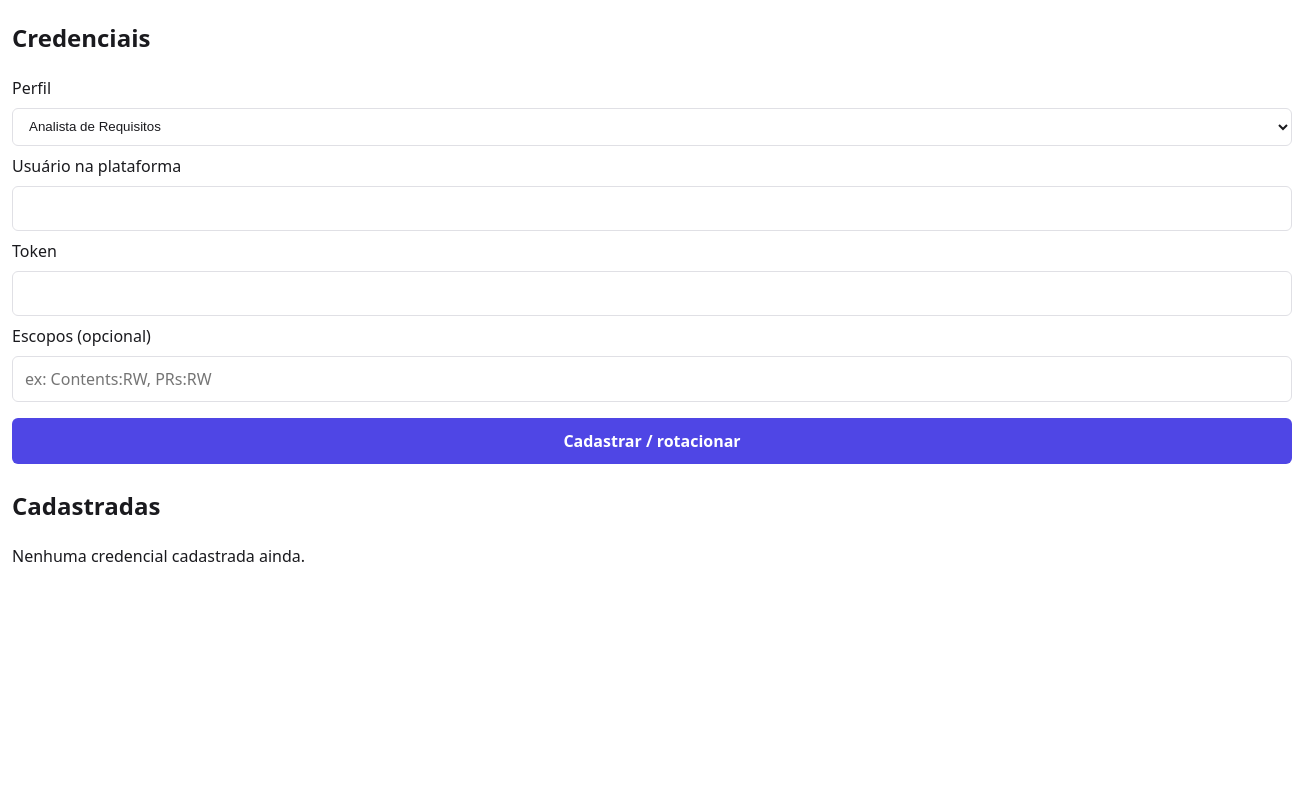
CredentialsPage › registers a credential, clears the write-only token field, and reloads the list
Check: the text "Nenhuma credencial cadastrada ainda." is shown, box [12,545,305,567]
Select "Dev" in the dropdown labelled "Perfil": (652, 127) [12,108,1292,146]
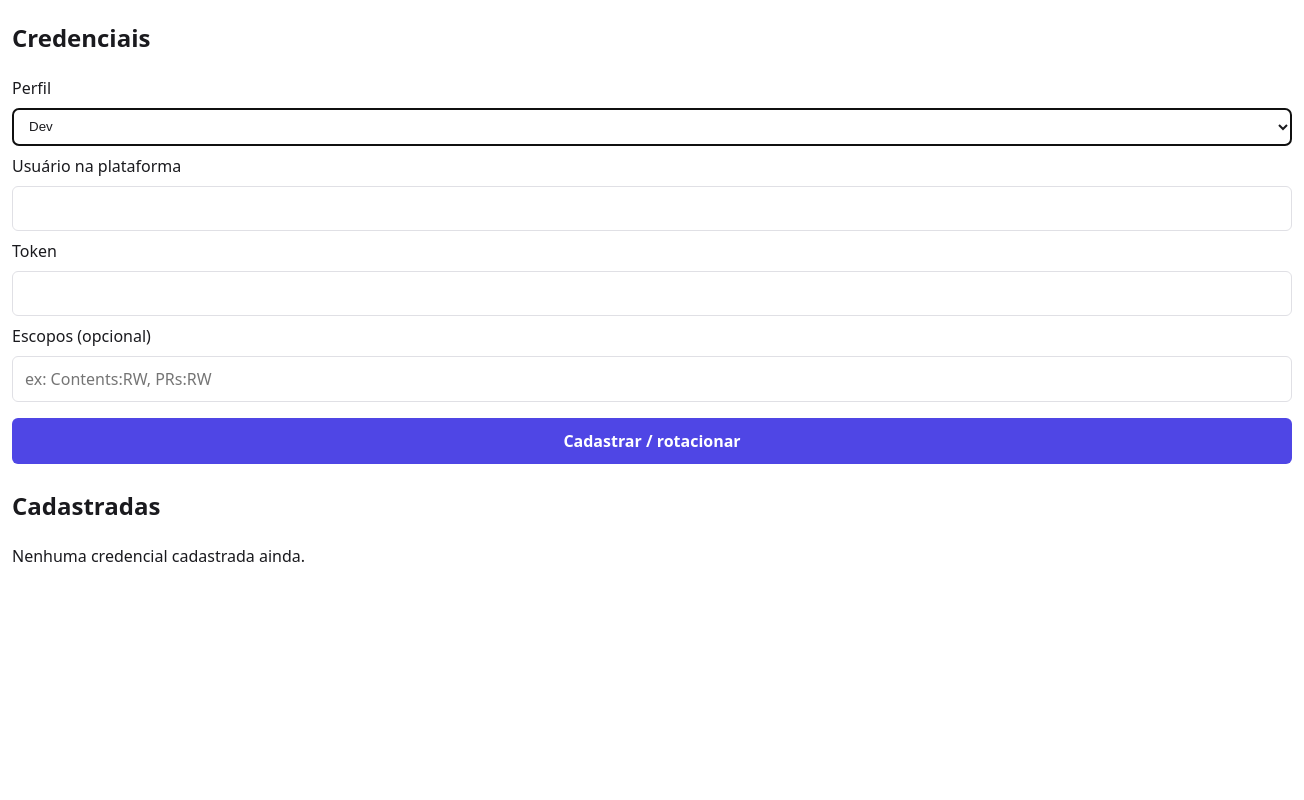
In the field labelled "Usuário na plataforma": (652, 209) [12,186,1292,231], type "recolocarme-web"
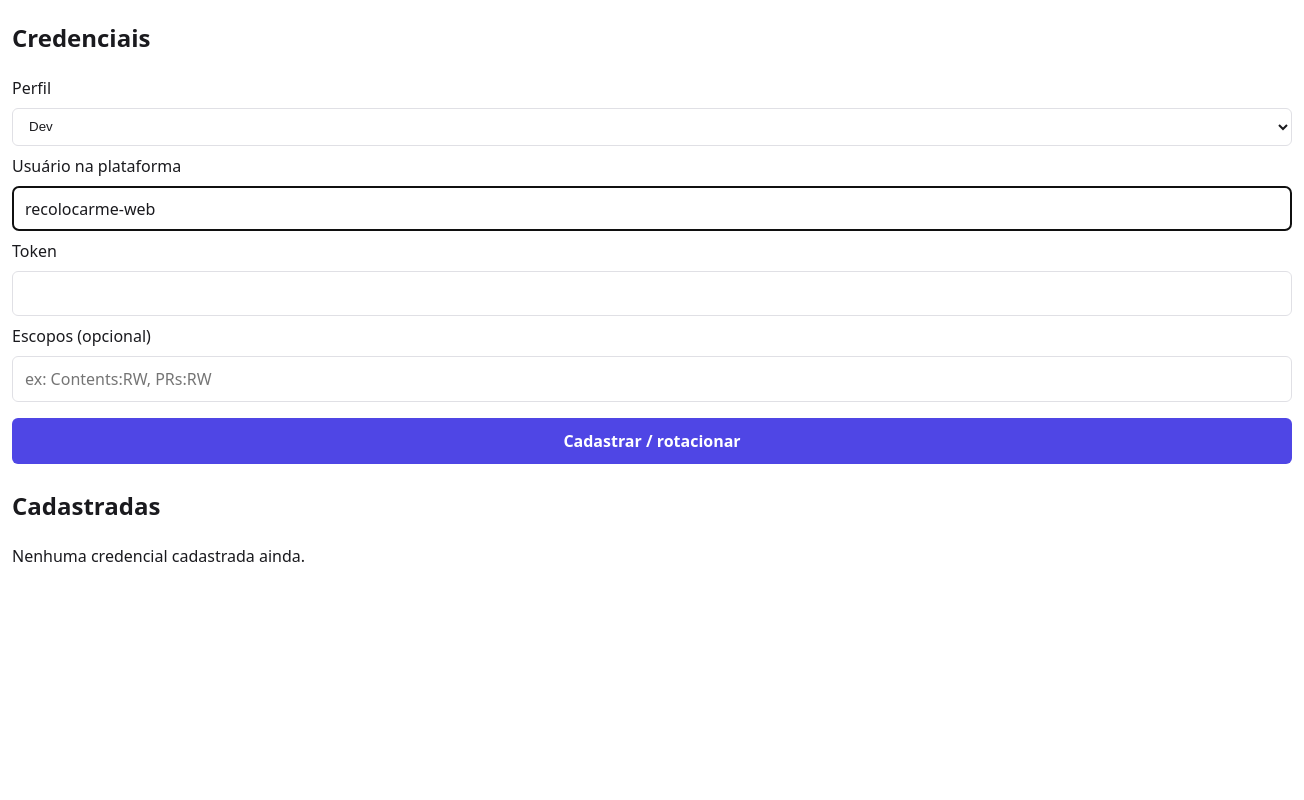
In the password field labelled "Token": (652, 294) [12,271,1292,316], type "super-secret-token"
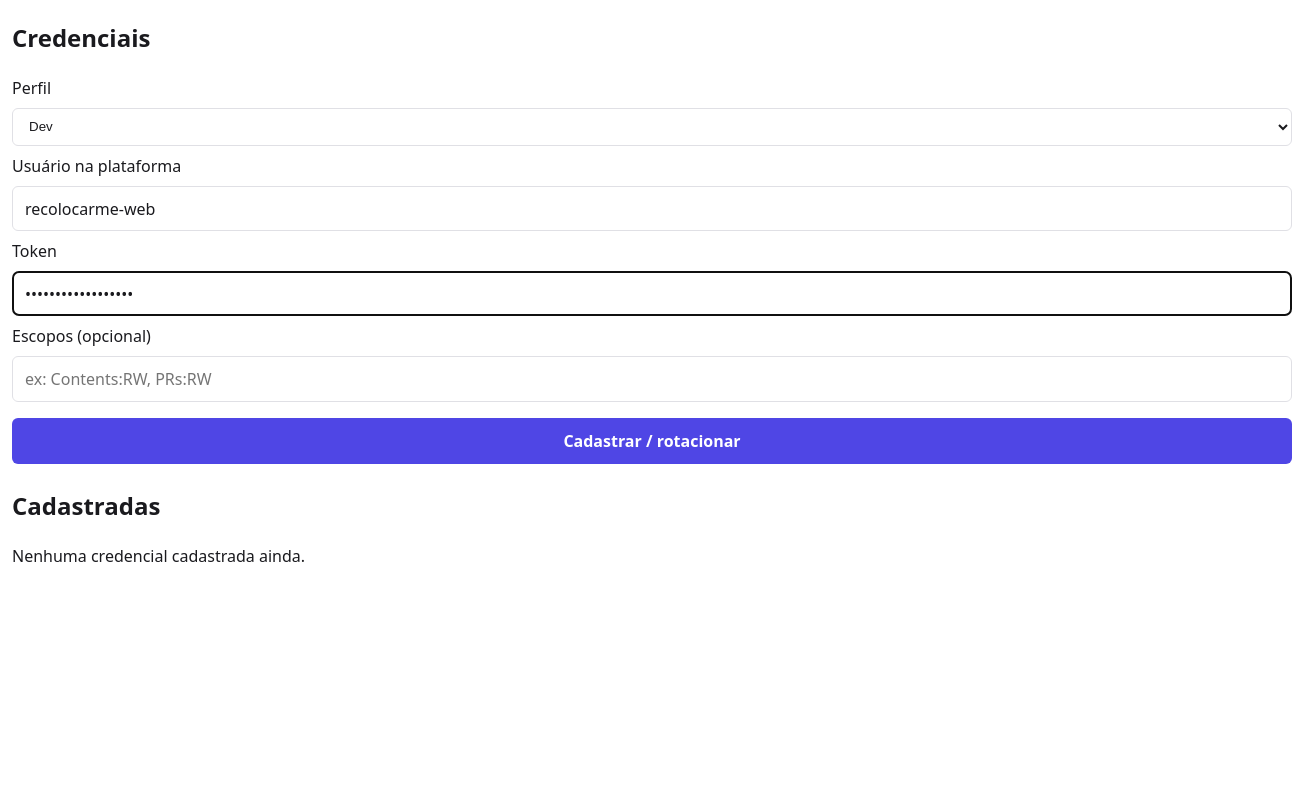
Click the button "Cadastrar / rotacionar": (652, 441) [12,418,1292,464]
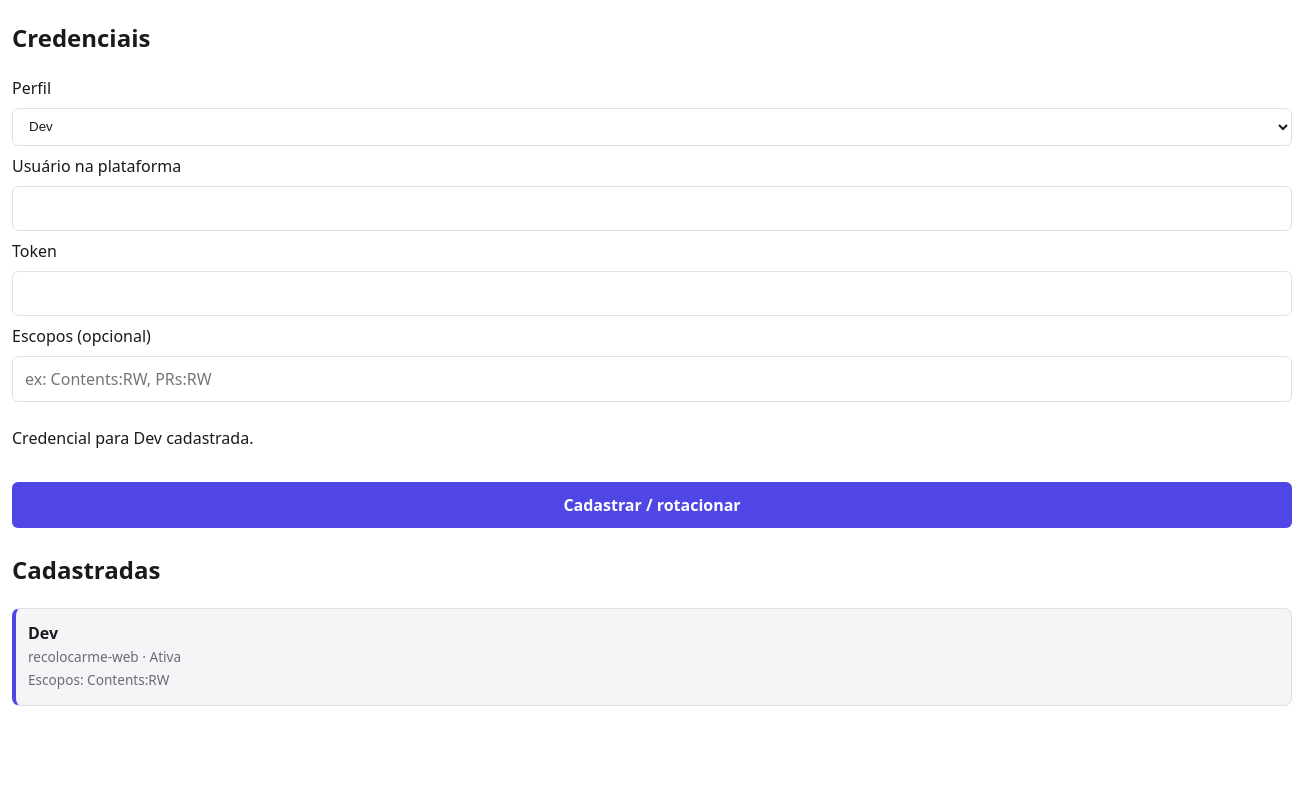
Check: the text "Credencial para Dev cadastrada." is shown, box [12,427,254,449]
Check: the password field labelled "Token" is empty, box [12,271,1292,316]
Check: the field labelled "Usuário na plataforma" is empty, box [12,186,1292,231]
